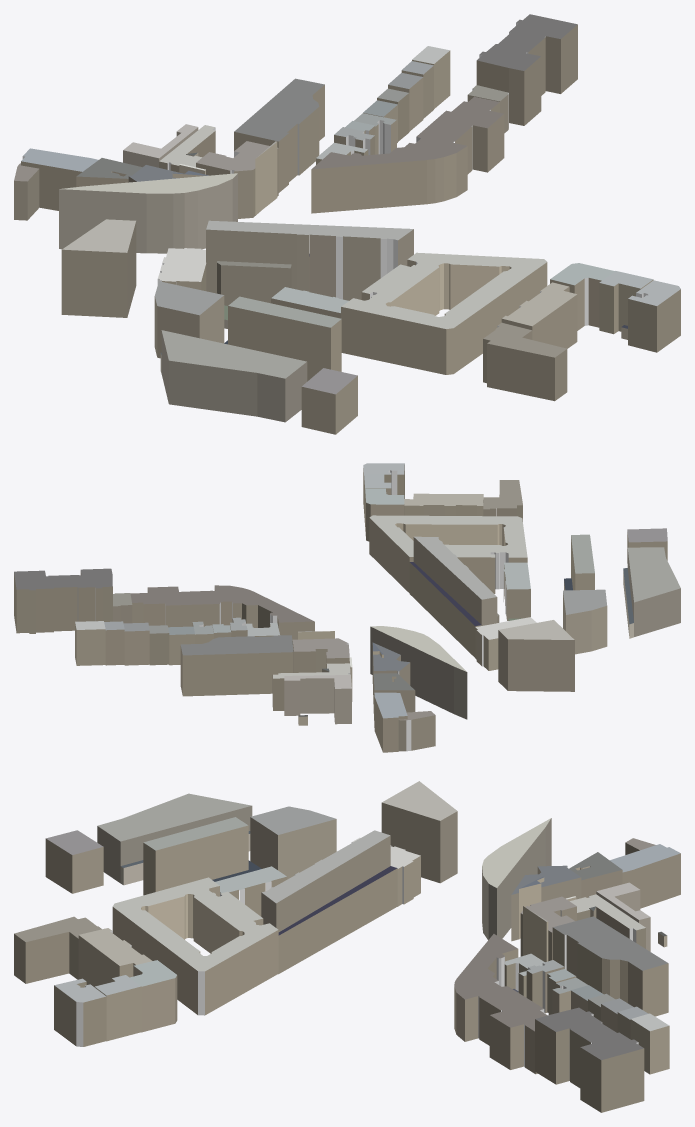
3 views of the same model, one above another, from view 1: azimuth 30°, elevation 25°; view 2: azimuth 150°, elevation 25°; view 3: azimuth 270°, elevation 25° (orthographic). The views are drawn at different scales.
Parts seen in each view (by area): view 1: tuile; view 2: tuile; view 3: tuile.
Boxes of the visible parts, bbox=[...] form: tuile: bbox=[14, 14, 680, 434]; tuile: bbox=[14, 463, 680, 752]; tuile: bbox=[14, 781, 680, 1112].
Bounding box in the file's own units: 283 × 32.51 × 273.
